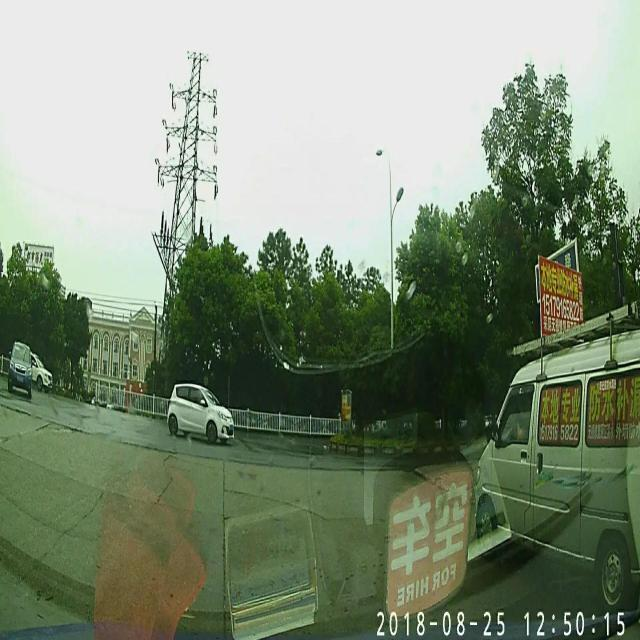car: (474, 324, 640, 612), (166, 382, 233, 440), (25, 340, 53, 392), (6, 342, 32, 394)
